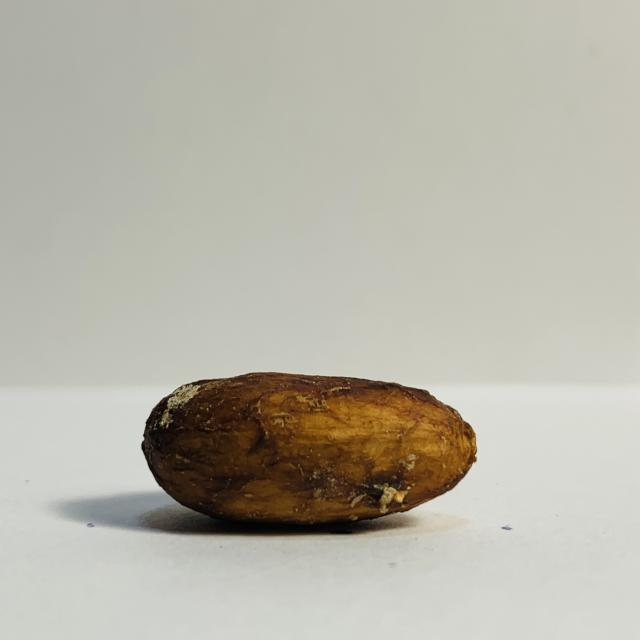Fine_cocoabeans: (97, 350, 528, 557)
